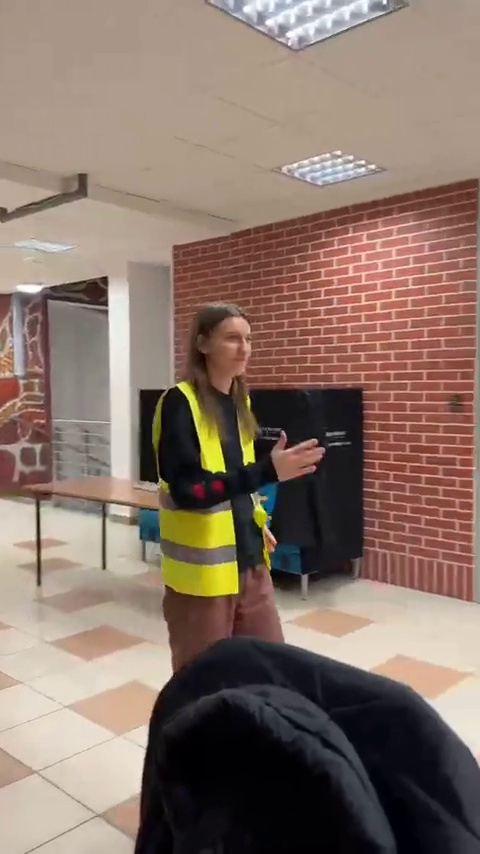vest: (151, 301, 314, 643)
